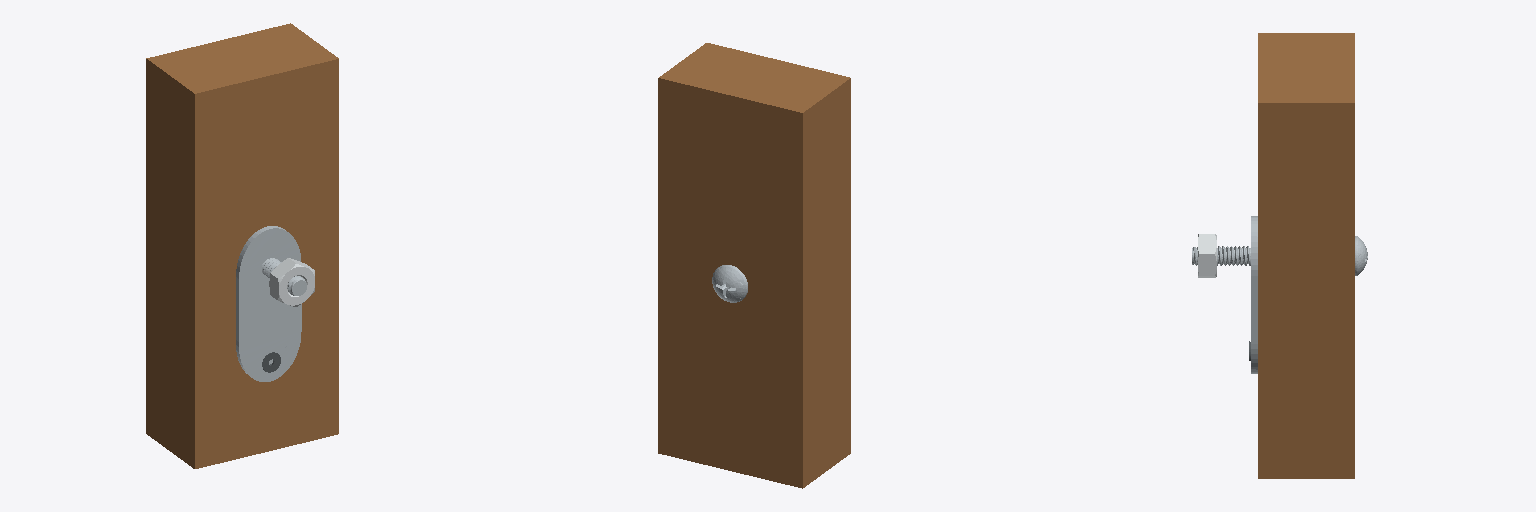
File: tinker.obj
The picture shows the model from 3 angles: view 1: azimuth 30°, elevation 25°; view 2: azimuth 150°, elevation 25°; view 3: azimuth 270°, elevation 25°; orthographic projection.
Visible parts, largest first — view 1: obj_0; view 2: obj_0; view 3: obj_0.
Boxes of the visible parts, x1,y1,x2,y2 form: obj_0: [146, 23, 338, 468]; obj_0: [658, 43, 850, 488]; obj_0: [1192, 33, 1367, 478].
Bounding box in the file's own units: 20 × 49.7 × 21.01.